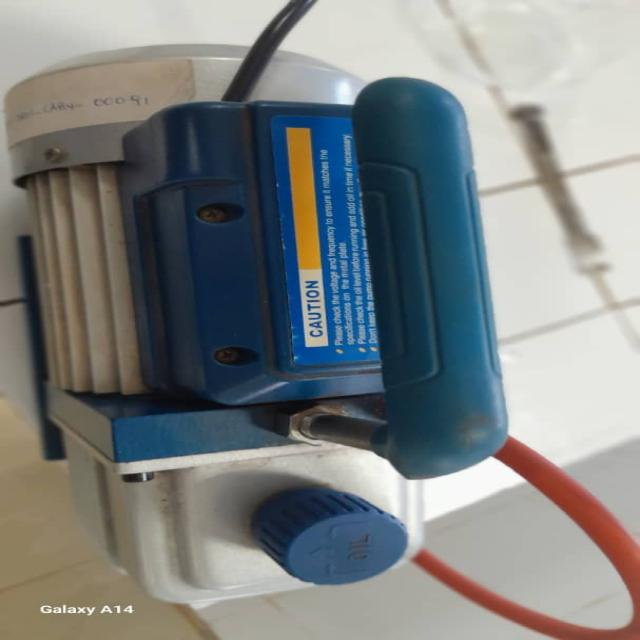Vacuum Pump: (1, 21, 505, 619)
